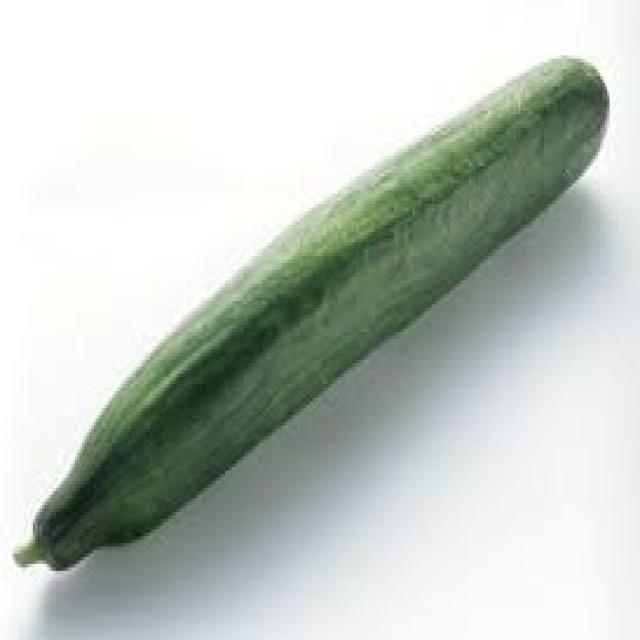cucumber: (9, 48, 610, 571)
